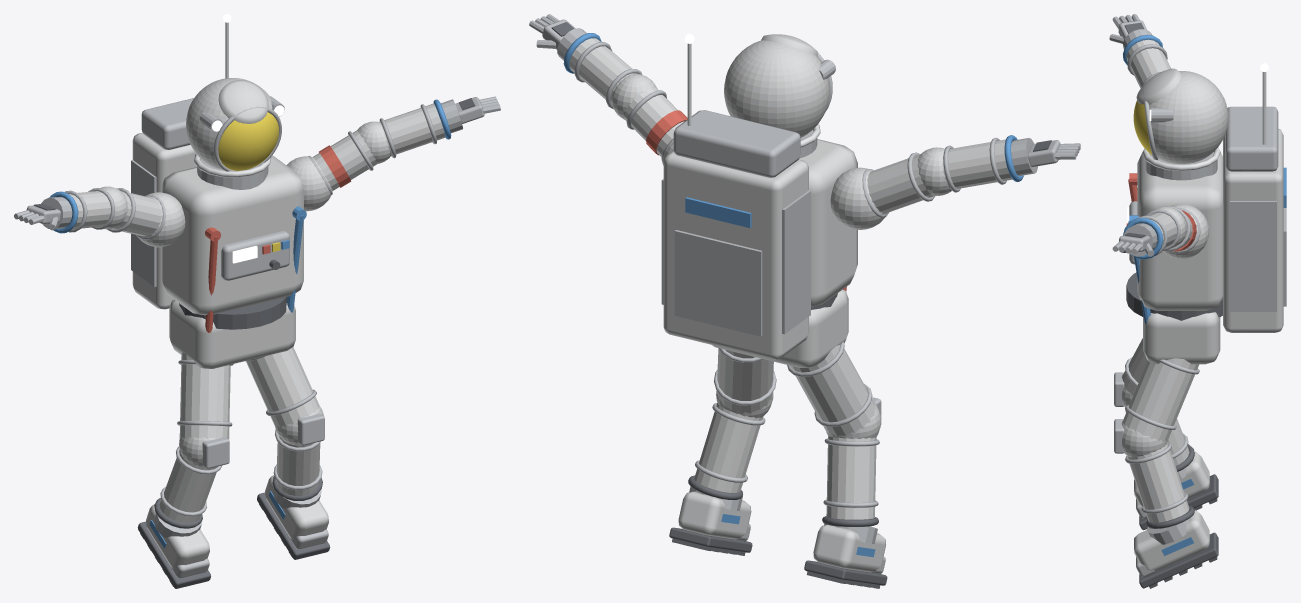
The model's file is player_astronaut.glb.
The picture shows the model from 3 angles, left to right: view 1: azimuth 30°, elevation 25°; view 2: azimuth 150°, elevation 25°; view 3: azimuth 270°, elevation 25°; orthographic projection. The views are drawn at different scales.
Parts seen in each view (by area): view 1: astronaut-floating; view 2: astronaut-floating; view 3: astronaut-floating.
Boxes of the visible parts, x1,y1,x2,y2 form: astronaut-floating: (14,14,500,588); astronaut-floating: (529,14,1080,588); astronaut-floating: (1109,14,1286,588).
Bounding box in the file's own units: 2.02 × 2.02 × 0.6415.
